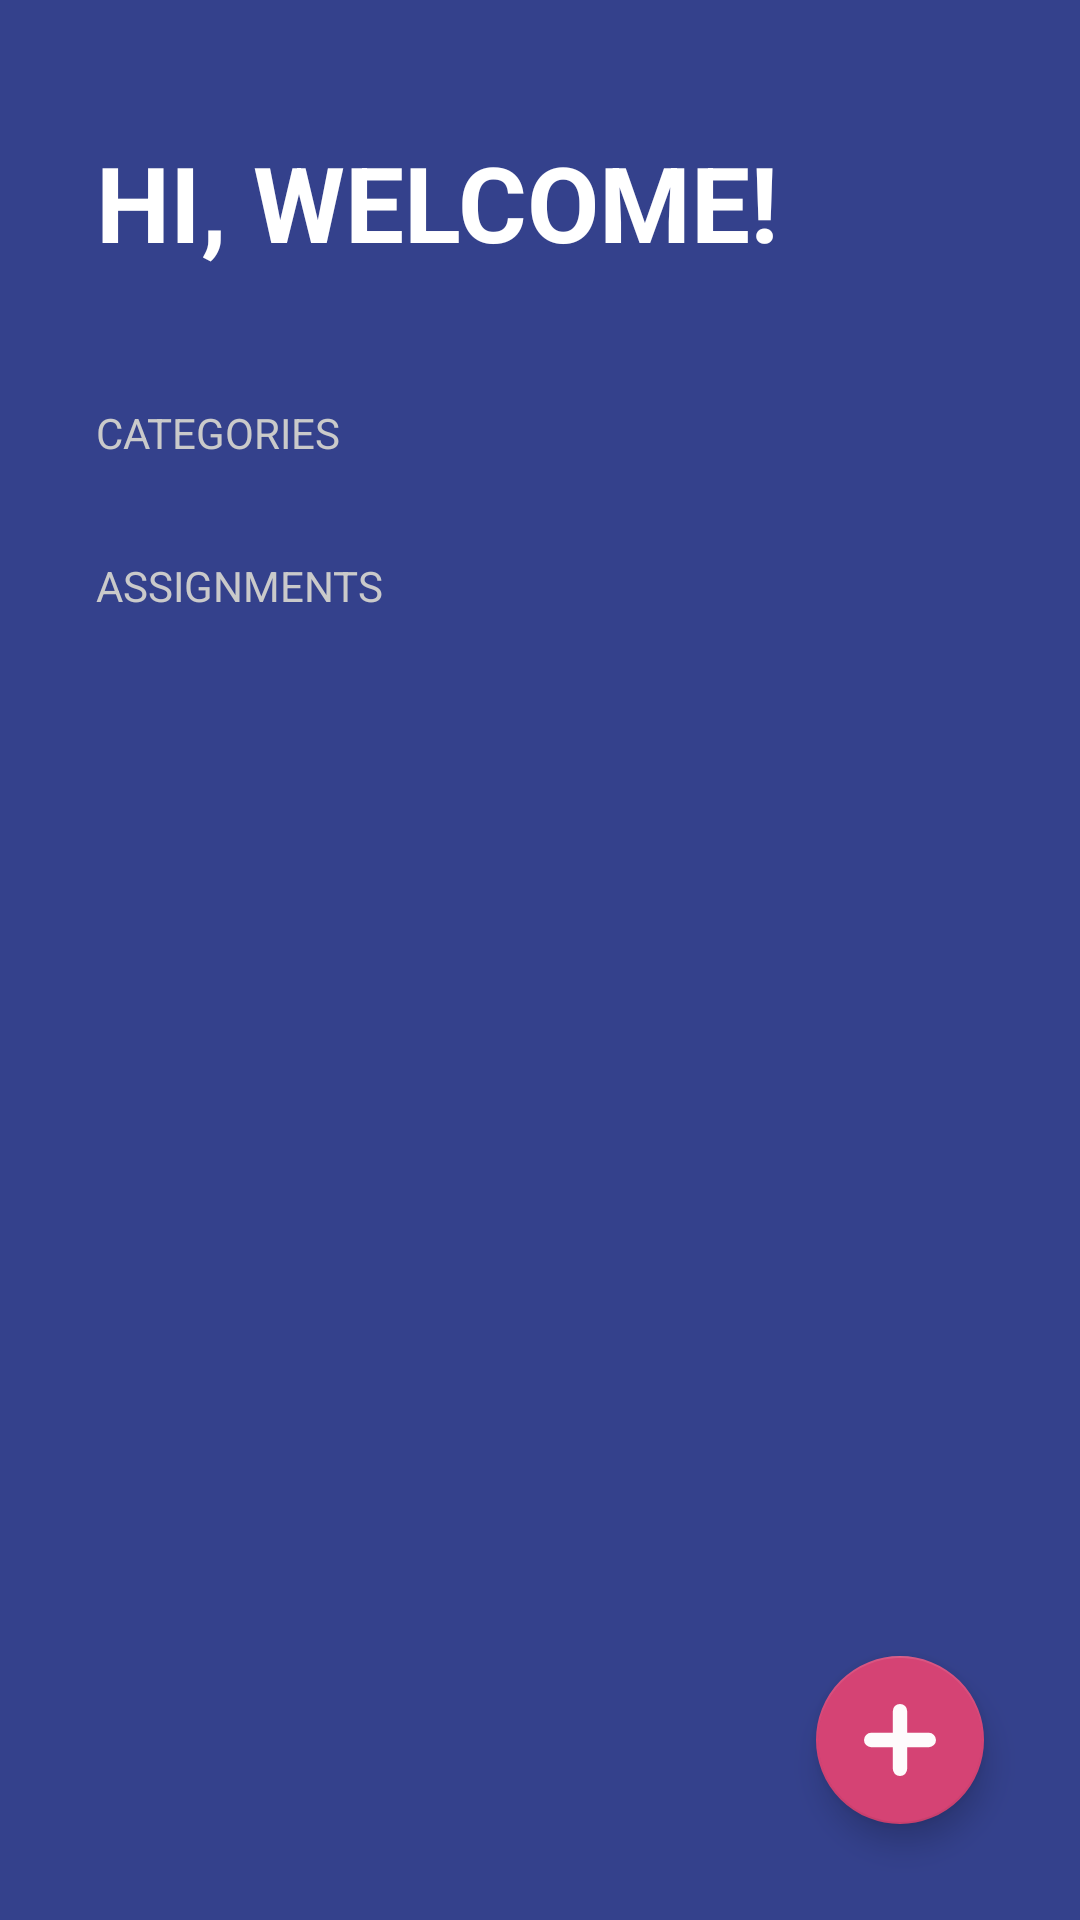

Locate icon controls on the screen. Image size 1080px x 1920px, boxes as (x1, y1, x2, y2).
plus symbol: (816, 1656, 984, 1824)
